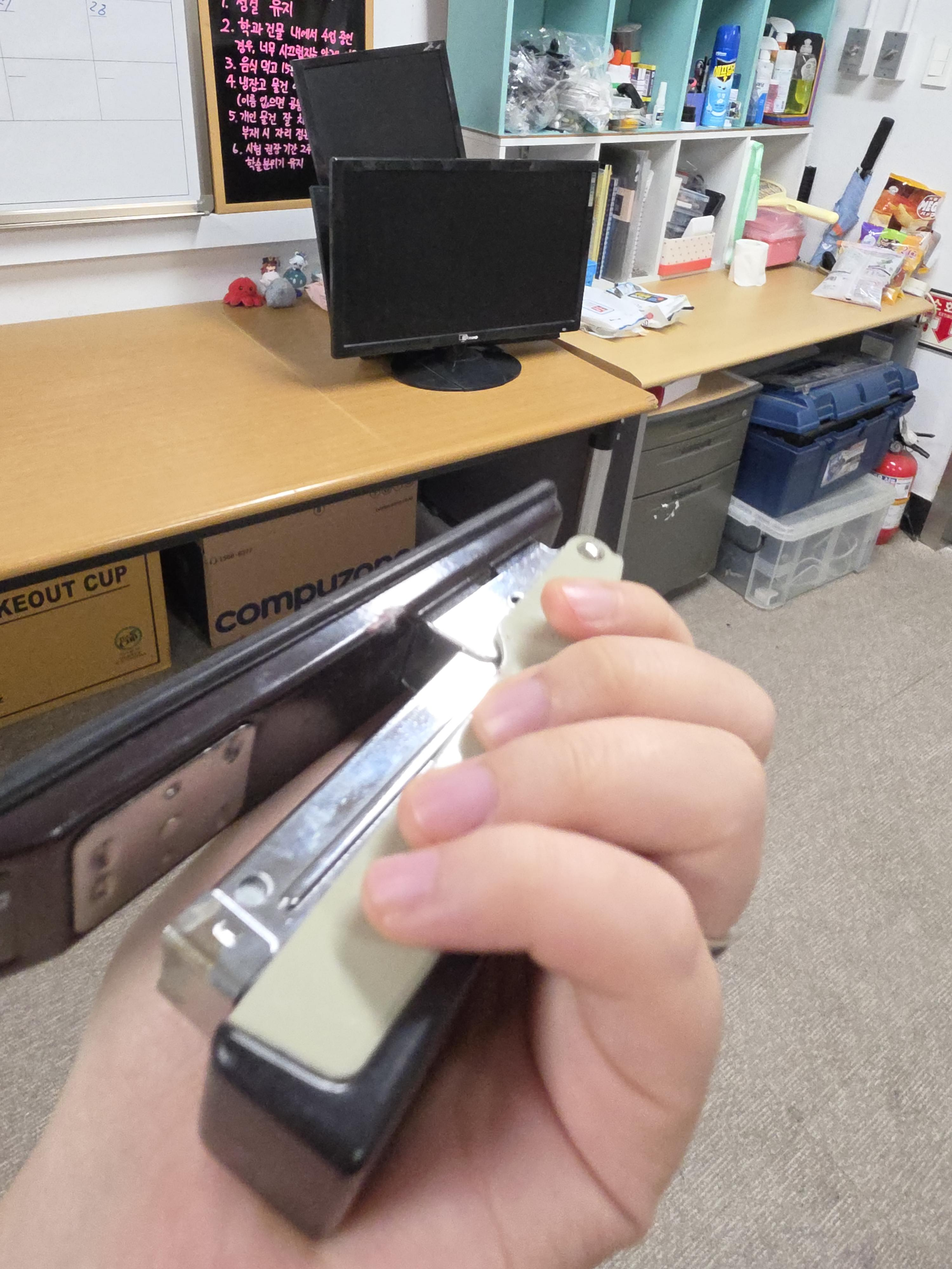stapler: (0, 478, 624, 1240)
tissue: (728, 238, 769, 287)
